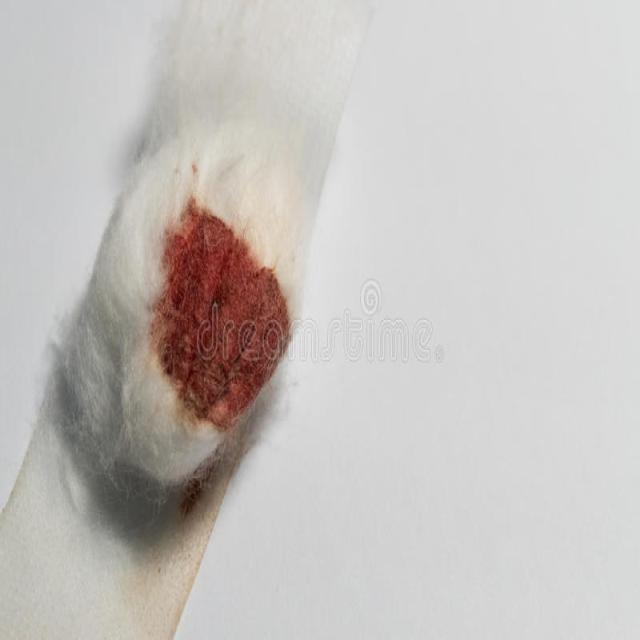B3: (92, 112, 291, 480)
